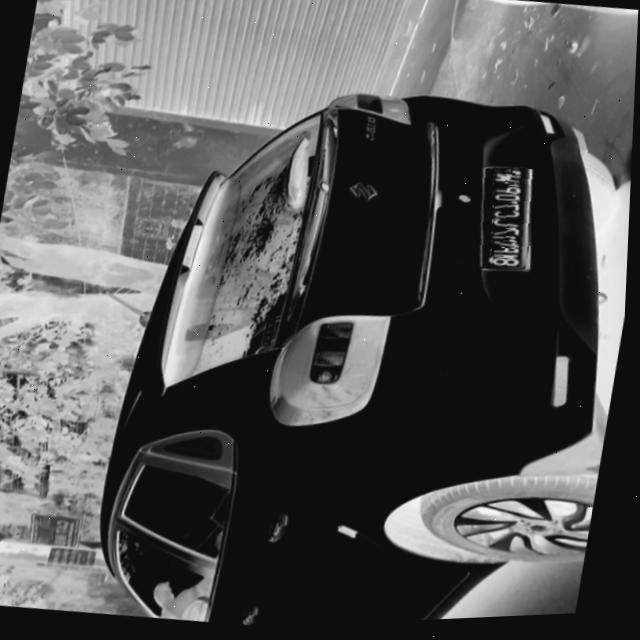0: (496, 195, 523, 206)
1: (493, 241, 524, 253)
3: (493, 249, 524, 263)
7: (495, 203, 523, 215)
8: (494, 260, 523, 272)
9: (494, 230, 526, 243)
C: (494, 211, 524, 224)
IND: (494, 171, 515, 182)
Indian_registered: (483, 170, 533, 273)
J: (494, 221, 523, 233)
M: (495, 177, 523, 189)
P: (495, 186, 524, 198)
